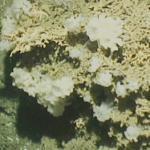alive: (12, 7, 144, 145)
